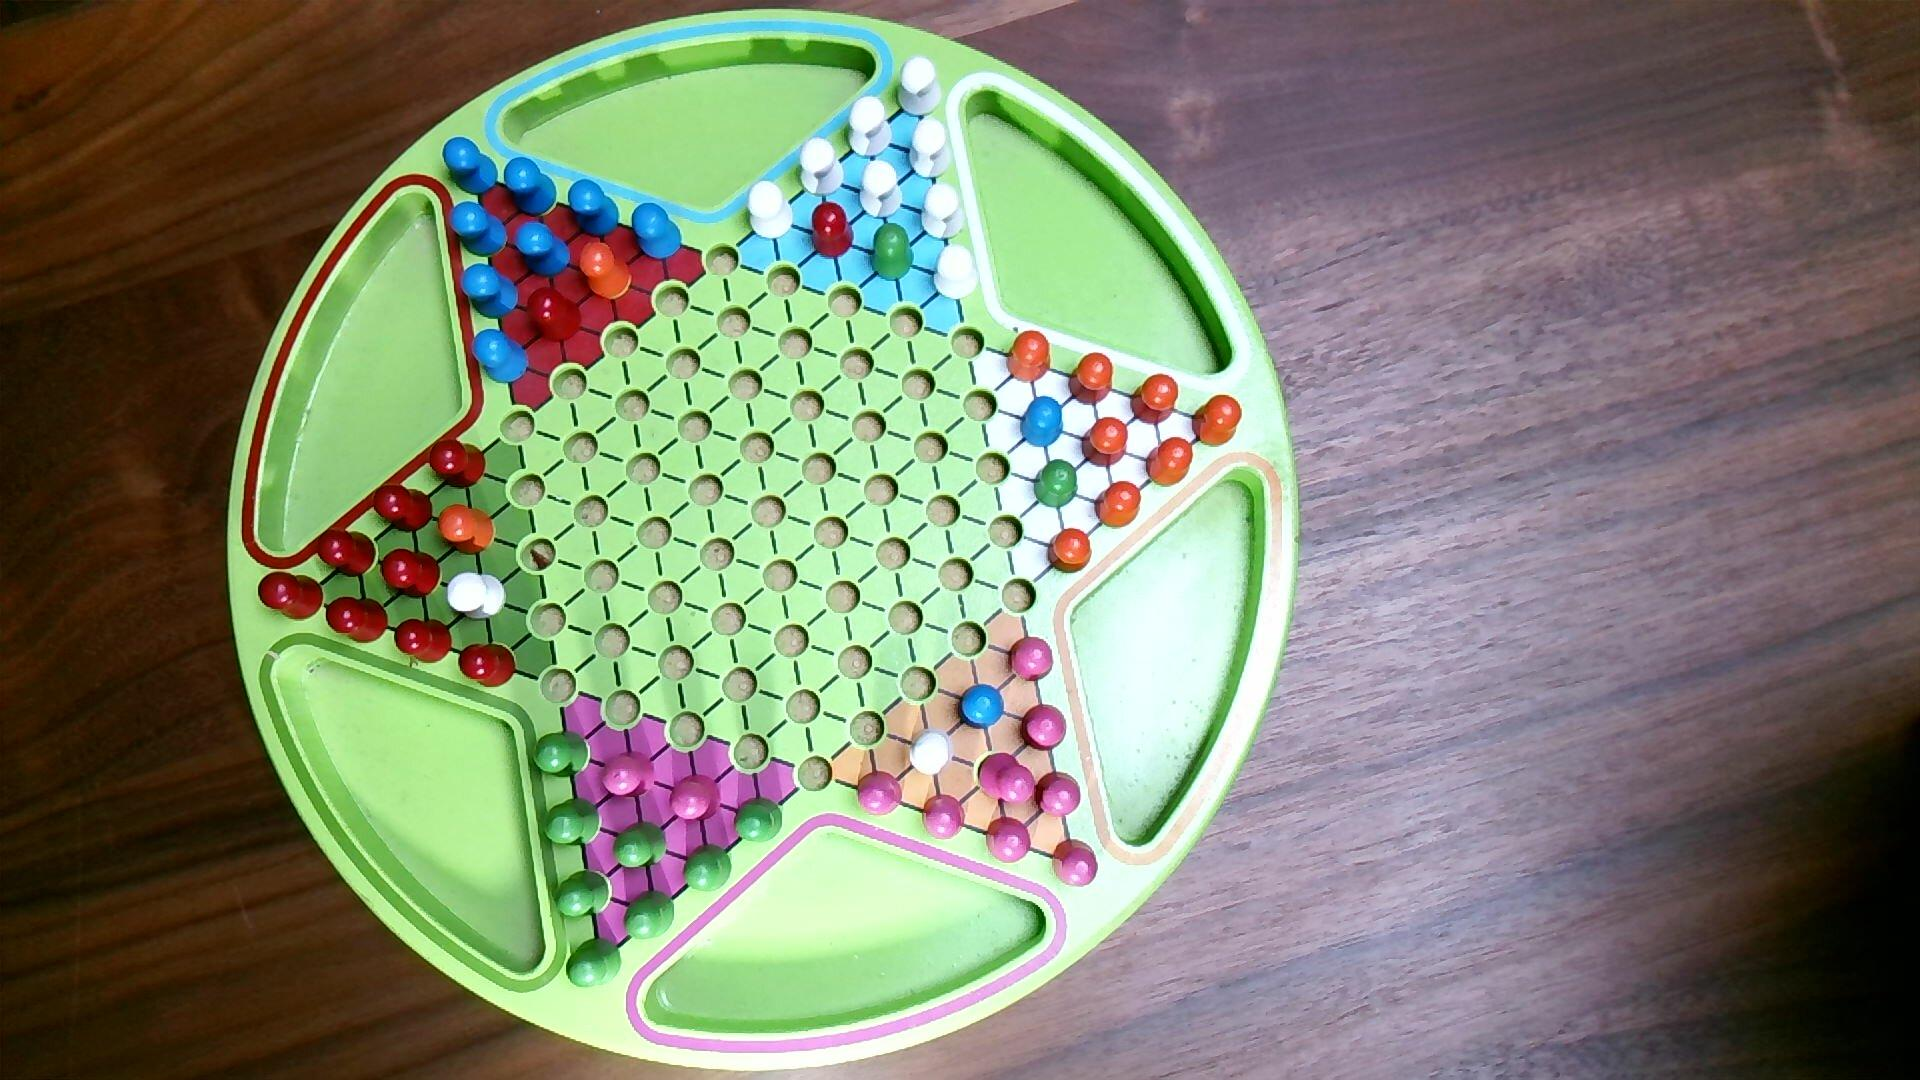B: (446, 200, 510, 260), (512, 219, 574, 280), (502, 156, 560, 220), (469, 327, 531, 386), (459, 262, 521, 322), (440, 135, 500, 196), (566, 178, 622, 239), (630, 200, 684, 262), (956, 682, 1007, 732), (1019, 394, 1065, 450)
G: (530, 728, 593, 782), (564, 936, 624, 990), (542, 796, 603, 849), (866, 222, 916, 285), (555, 868, 613, 920), (612, 820, 670, 873), (622, 889, 676, 942), (680, 843, 735, 894), (732, 795, 785, 845), (1033, 458, 1080, 512)
O: (576, 240, 632, 301), (436, 502, 497, 556), (1192, 394, 1244, 451), (1129, 373, 1180, 427), (1145, 435, 1195, 491), (1068, 351, 1116, 407), (1006, 328, 1054, 385), (1093, 480, 1145, 531), (1081, 415, 1130, 469), (1047, 527, 1095, 576)
R: (256, 568, 327, 622), (525, 285, 585, 345), (378, 547, 444, 603), (371, 481, 435, 535), (427, 436, 489, 492), (314, 527, 378, 580), (326, 596, 392, 646), (393, 617, 454, 666), (808, 200, 857, 261), (458, 642, 520, 690)
R2: (975, 750, 1036, 807), (600, 749, 658, 800), (669, 771, 723, 824), (1050, 837, 1101, 890), (1019, 702, 1069, 753), (985, 814, 1034, 866), (855, 767, 905, 818), (1034, 770, 1083, 820), (1006, 636, 1055, 684), (920, 793, 968, 843)
W: (446, 570, 508, 622), (746, 179, 795, 243), (895, 55, 944, 119), (847, 95, 894, 160), (798, 137, 847, 199), (909, 116, 953, 181), (920, 182, 968, 243), (858, 160, 905, 222), (934, 244, 981, 302), (907, 728, 955, 779)
